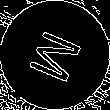M_SE: (22, 24, 88, 86)
